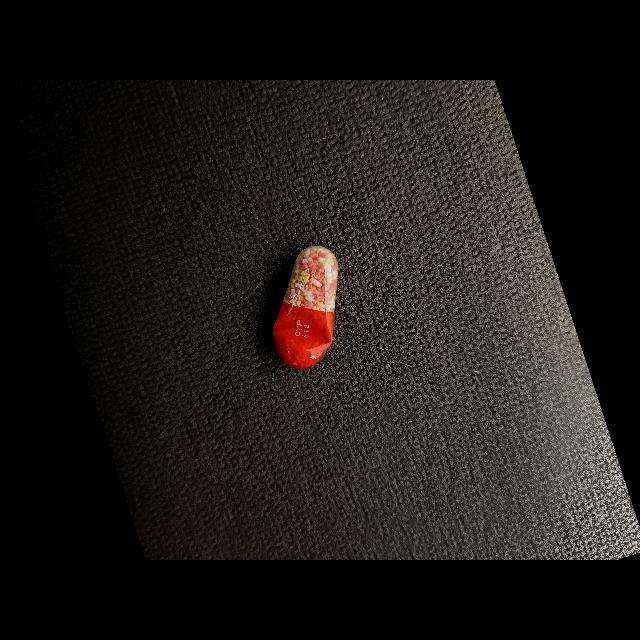Defective Capsule: (273, 246, 339, 369)
